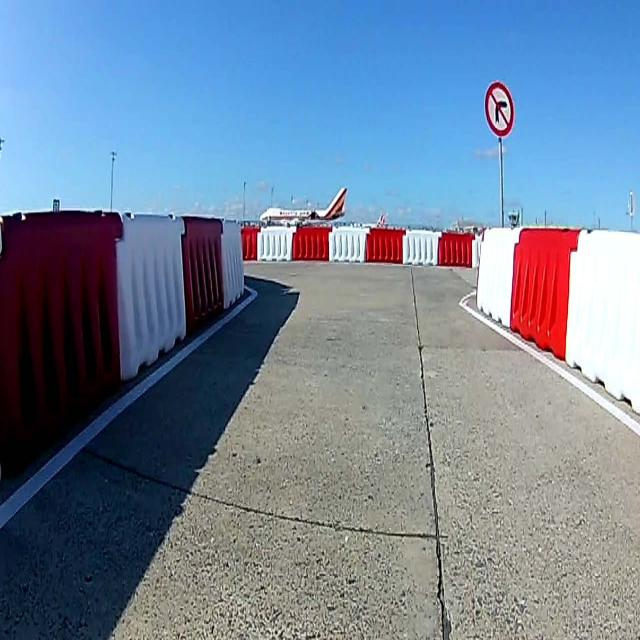sagadonulmez: (486, 82, 514, 136)
